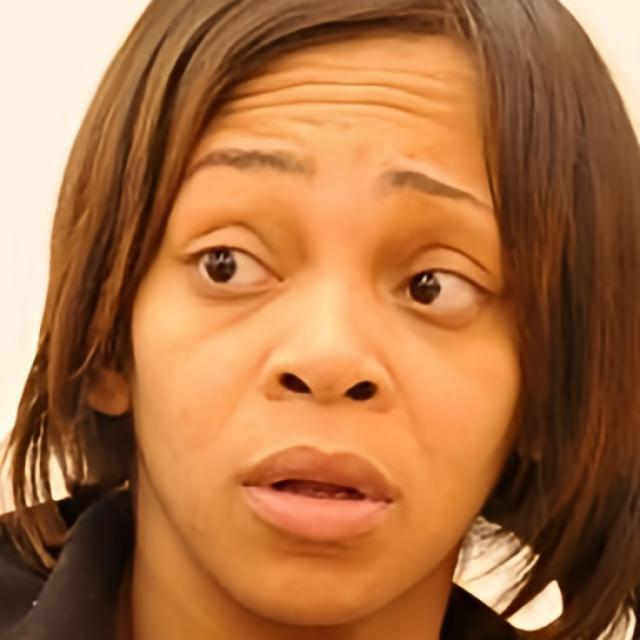surprise: (127, 34, 539, 630)
